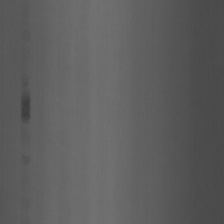oil_spot: (18, 79, 33, 129)
